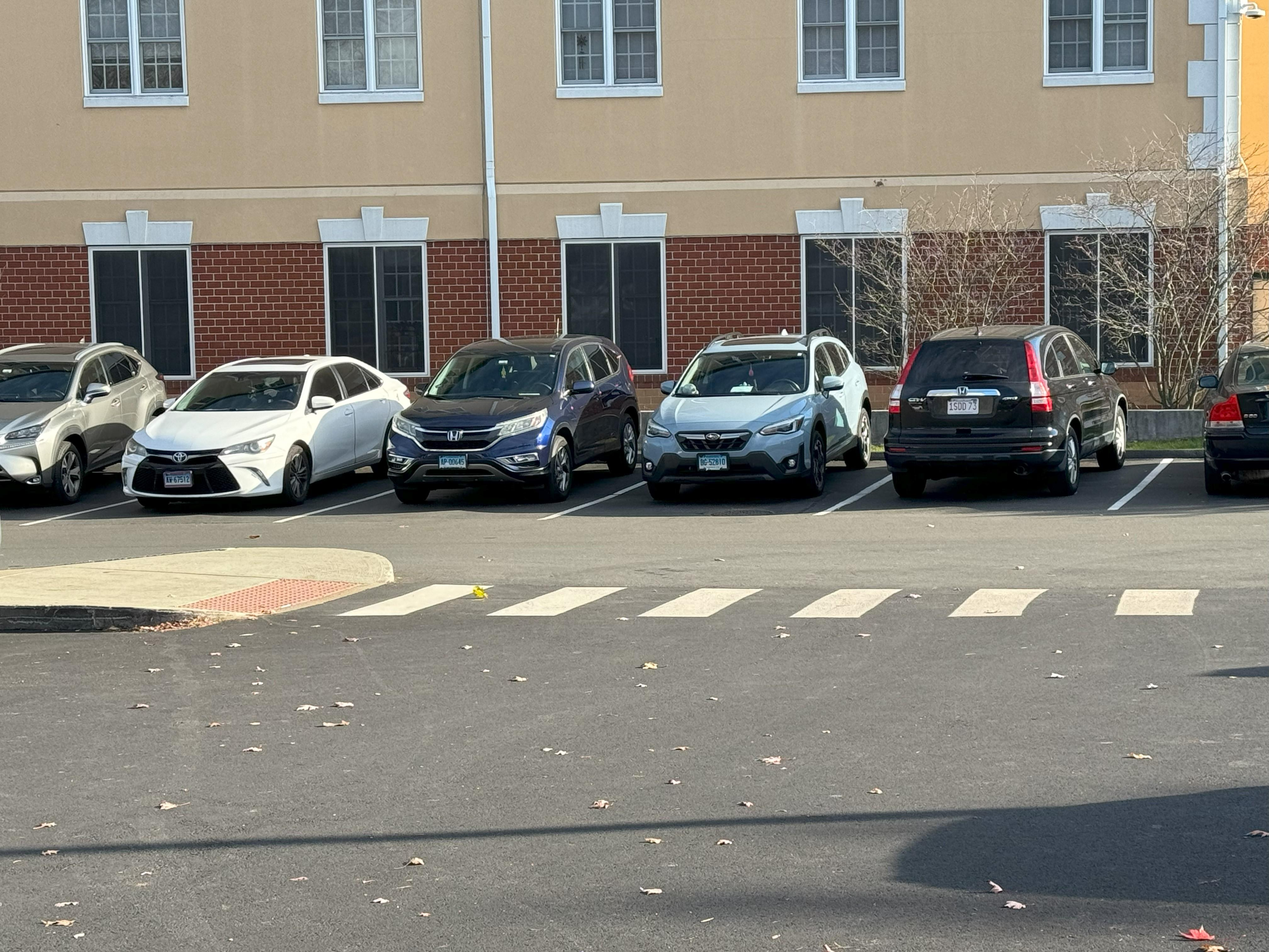occupied: (882, 319, 1138, 514), (152, 319, 373, 519), (630, 325, 864, 511), (410, 322, 612, 509), (13, 319, 131, 521)
